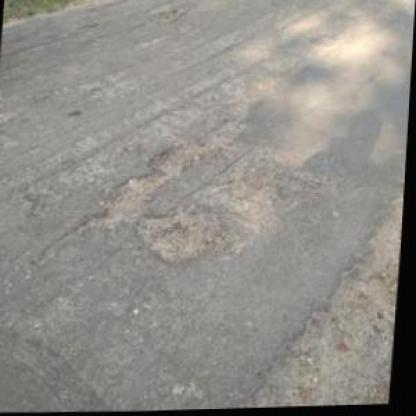pothole: (249, 193, 406, 409), (80, 141, 198, 236), (134, 201, 224, 269), (148, 2, 193, 24)
